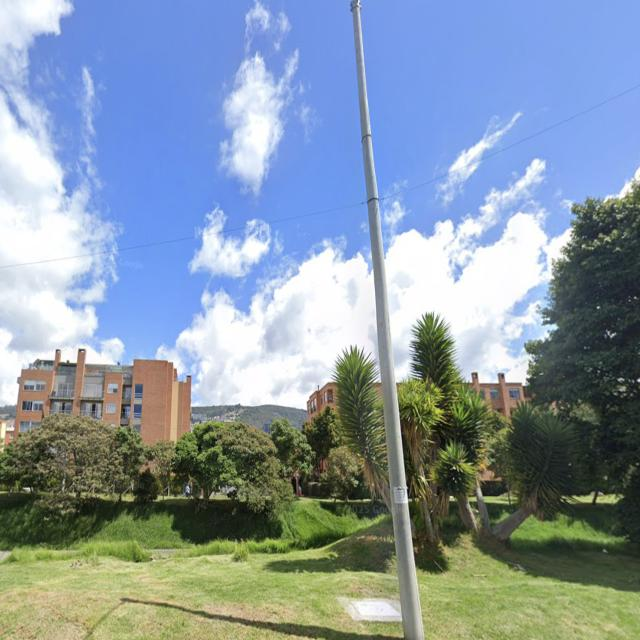Poste: (350, 0, 424, 640)
